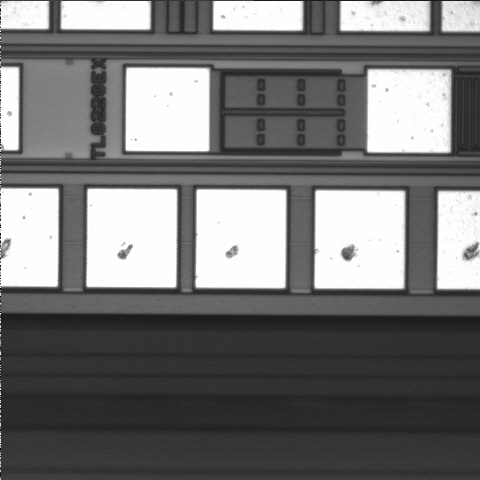pad: (196, 189, 286, 288), (315, 190, 405, 289), (87, 189, 177, 287), (126, 68, 209, 151), (367, 70, 450, 153)
